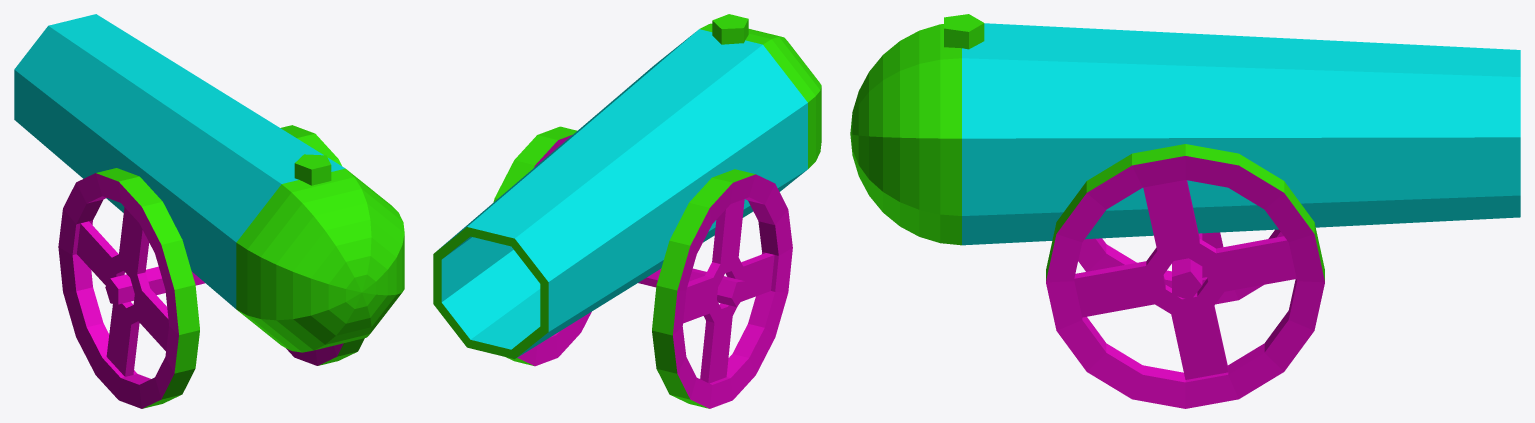
Rendered from cannon.fbx.
3 renders of one model, left to right at view 1: azimuth 30°, elevation 25°; view 2: azimuth 150°, elevation 25°; view 3: azimuth 270°, elevation 25°, orthographic. The views are drawn at different scales.
Visible parts, largest first — view 1: Barrel, Left Wheel, Right Wheel; view 2: Barrel, Left Wheel, Right Wheel; view 3: Barrel, Right Wheel, Left Wheel.
Boxes of the visible parts, left/top/right/bottom form: Barrel: left=14, top=14, right=404, bottom=352; Left Wheel: left=58, top=168, right=199, bottom=408; Right Wheel: left=280, top=125, right=364, bottom=365; Barrel: left=433, top=14, right=821, bottom=359; Left Wheel: left=652, top=169, right=792, bottom=408; Right Wheel: left=493, top=126, right=591, bottom=366; Barrel: left=850, top=14, right=1520, bottom=300; Right Wheel: left=1046, top=144, right=1324, bottom=408; Left Wheel: left=1078, top=229, right=1283, bottom=304.
Bounding box in the file's own units: 250 × 326 × 600.
